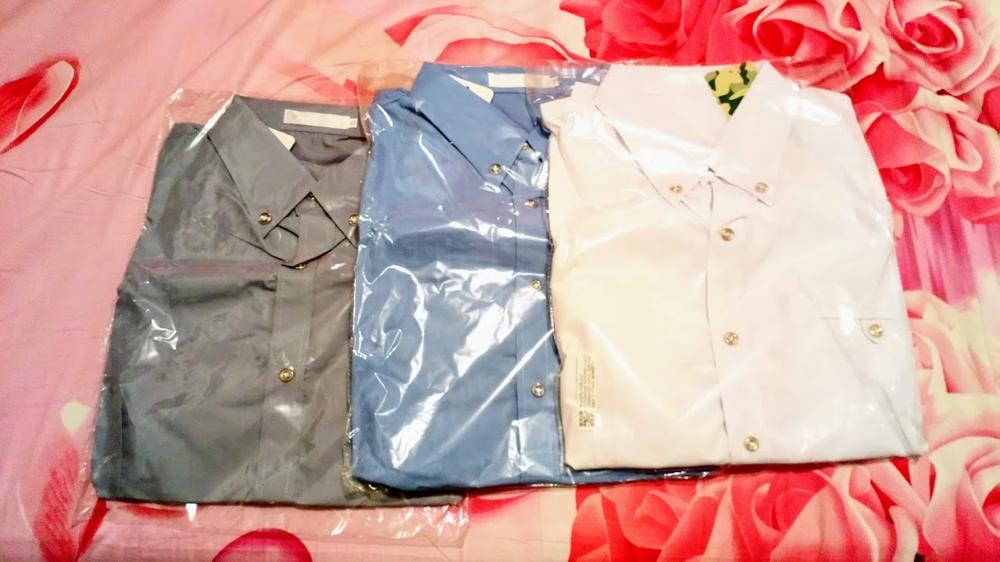shirts: (121, 122, 513, 473), (547, 78, 910, 451), (375, 93, 722, 477)
